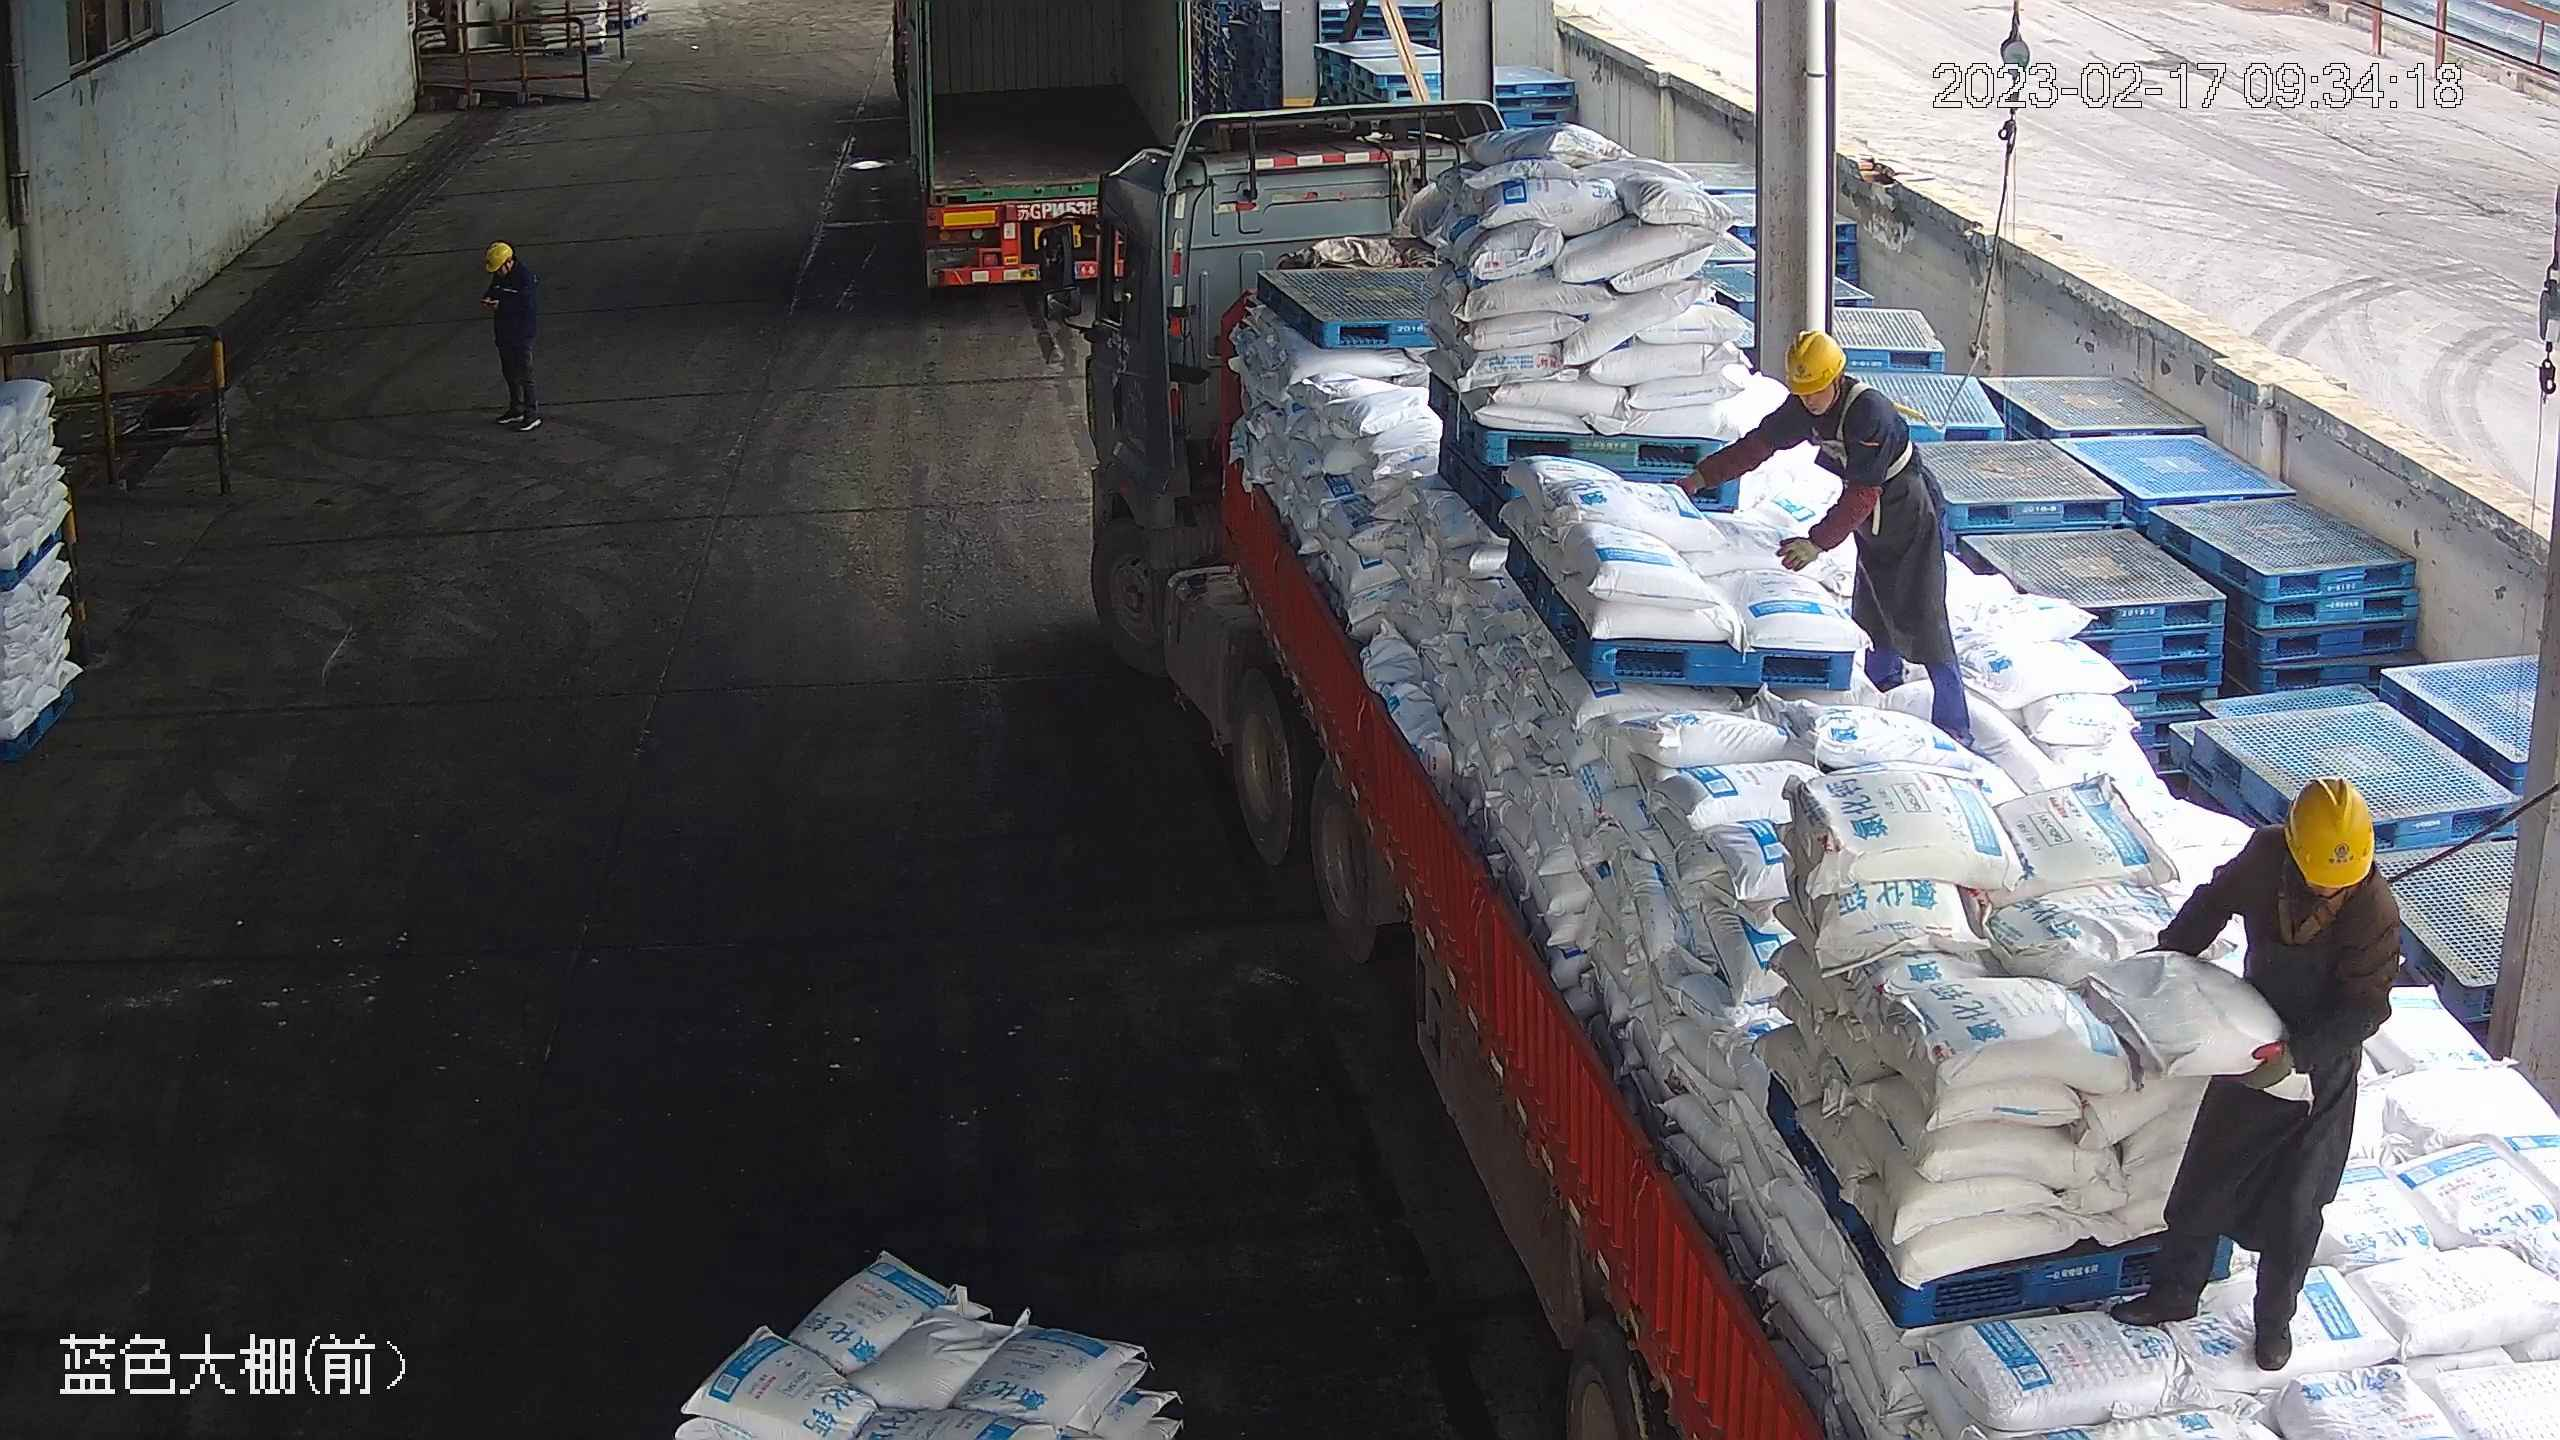belt: (2262, 835, 2408, 943), (1818, 382, 1919, 481)
head: (2223, 775, 2405, 935), (1777, 327, 1897, 447), (480, 240, 532, 294)
helmet: (2286, 773, 2377, 888), (1780, 326, 1848, 396), (483, 241, 512, 267)
people: (2115, 768, 2405, 1374), (1678, 324, 1976, 740), (479, 239, 545, 434)
truck: (1051, 99, 2548, 1437), (885, 1, 1194, 297)
